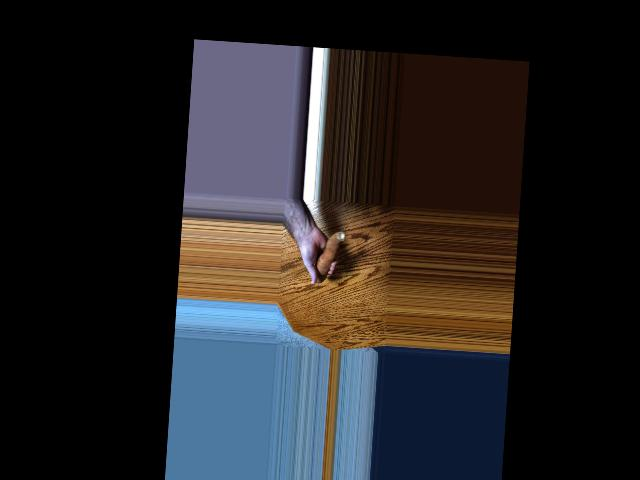sweet_potato: (312, 227, 344, 283)
